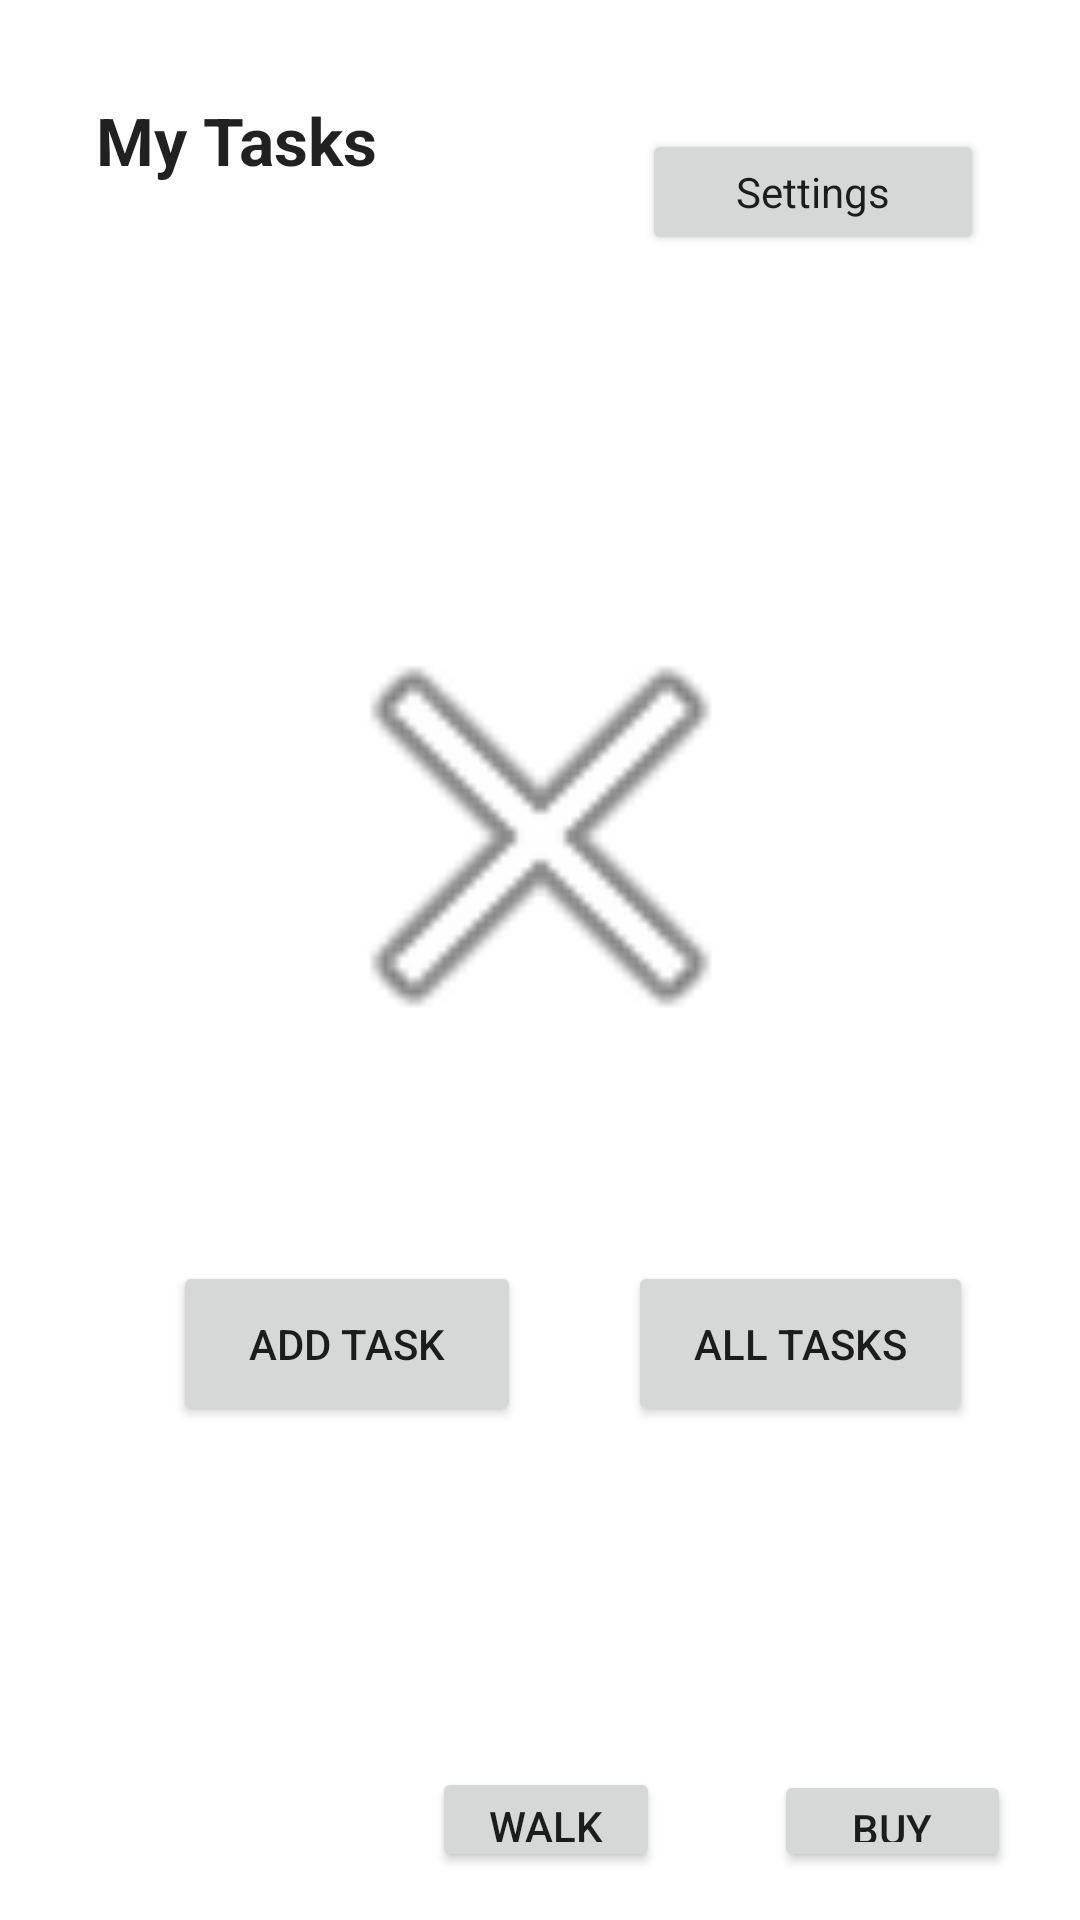

Named icons in this screenshot (1080 x 1920) and their centers, point (x, y):
close clear cancel: point (540, 836)
